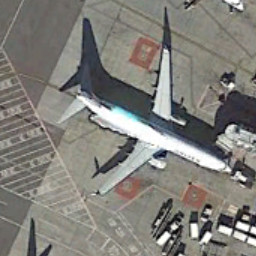Airplane: (50, 40, 245, 209)
